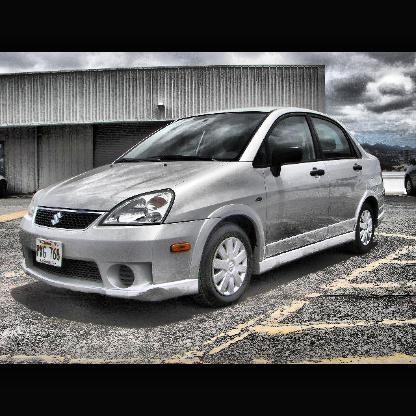Suzuki Aerio Sedan 2007: (18, 106, 388, 307)
